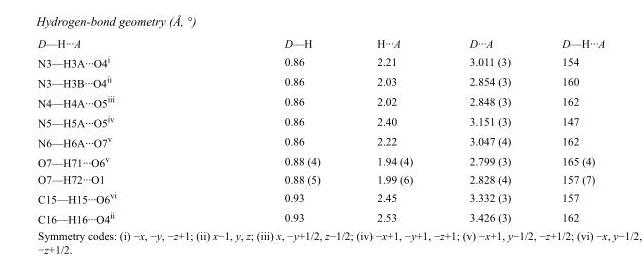table: (37, 36, 604, 224)
table column: (37, 36, 199, 224), (199, 36, 347, 224), (440, 36, 535, 224), (347, 36, 440, 224), (535, 36, 604, 224)
table row: (37, 51, 604, 71), (37, 71, 604, 91), (37, 91, 604, 111), (37, 111, 604, 131), (37, 150, 604, 170), (37, 187, 604, 207), (37, 131, 604, 150), (37, 170, 604, 187), (37, 207, 604, 224), (37, 36, 604, 51)
